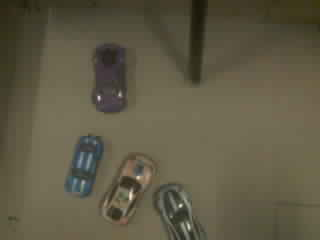Car: (101, 153, 154, 223), (154, 183, 205, 239), (93, 45, 126, 111), (66, 137, 101, 195)
